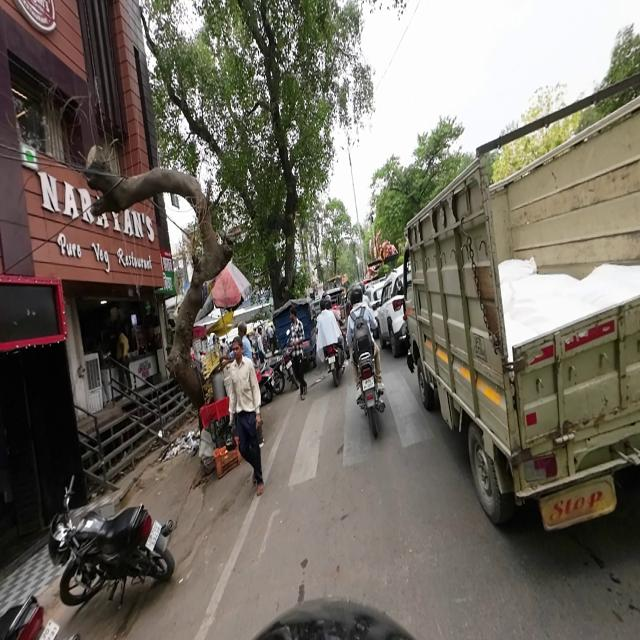Garbage: (163, 428, 196, 461)
